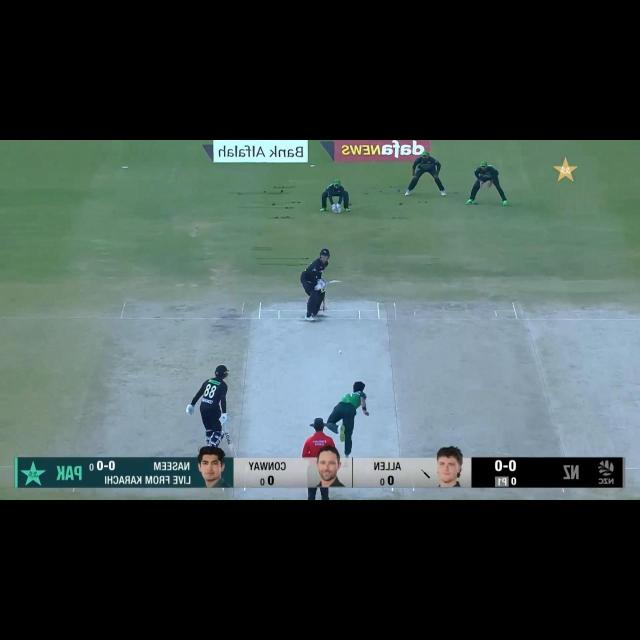bat: (225, 432, 238, 457), (324, 279, 343, 285)
toe: (337, 280, 342, 284)
